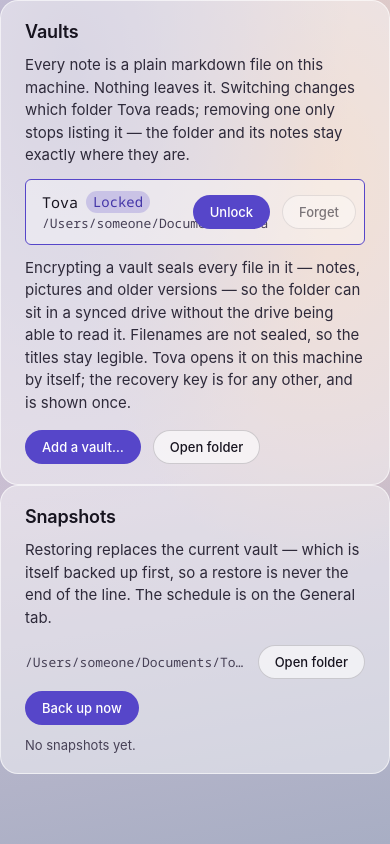
Scenario: a vault this machine has no key for › says so when the key does not open it, rather than failing quietly
The image size is (390, 844).
Click the button with aria-label "Unlock Tova": [231, 212] box [193, 194, 270, 228]
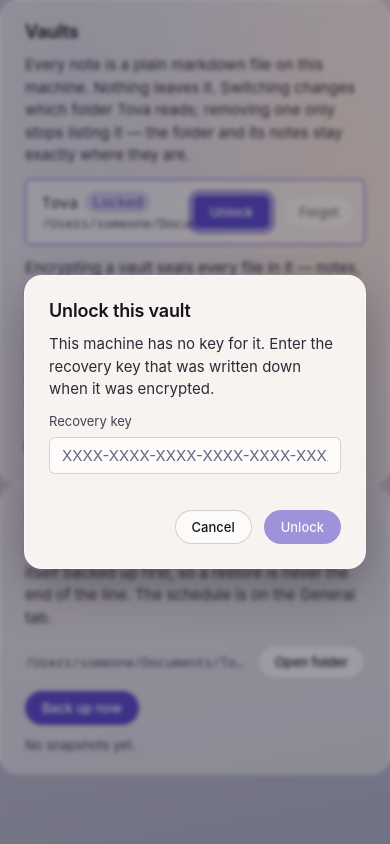
In the field labelled "Recovery key": [195, 455] box [49, 437, 341, 474], type "WRON-GKEY-WRON-GKEY-WRON-GKEY"
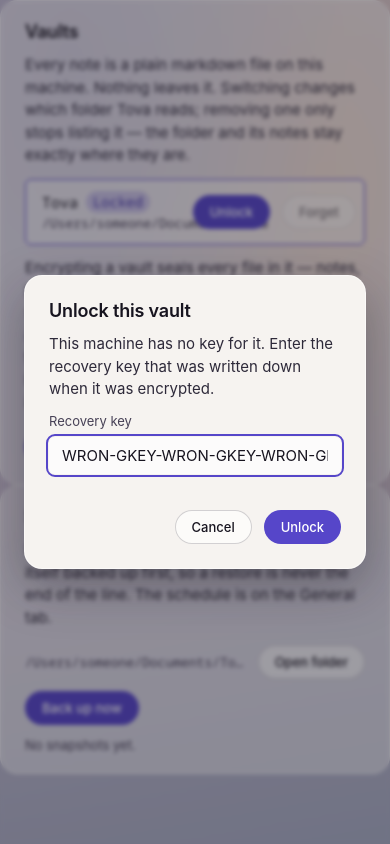
Click the button "Unlock": [302, 527] box [264, 510, 341, 544]
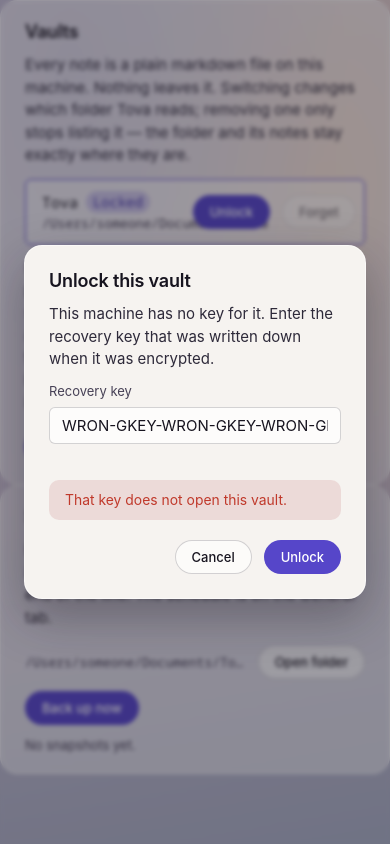
expect the message reads "That key does not open this vault.": met, box [65, 492, 287, 508]
